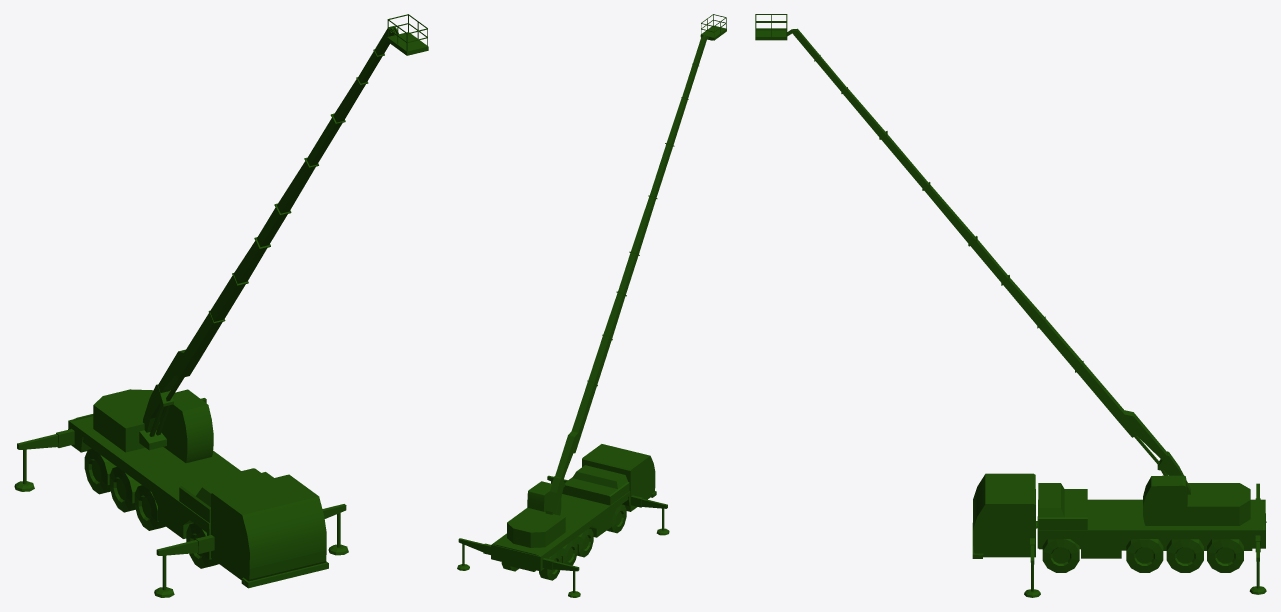
File: Vehicle10.fbx
3 renders of one model, left to right at view 1: azimuth 30°, elevation 25°; view 2: azimuth 150°, elevation 25°; view 3: azimuth 270°, elevation 25°, orthographic. The views are drawn at different scales.
Parts seen in each view (by area): view 1: Vehicle10; view 2: Vehicle10; view 3: Vehicle10.
Part boxes in pixels (x1,y1,x2,y2): Vehicle10: [14, 14, 428, 597]; Vehicle10: [457, 14, 726, 597]; Vehicle10: [755, 14, 1266, 597].
Bounding box in the file's own units: 6.89 × 22.84 × 19.61.
